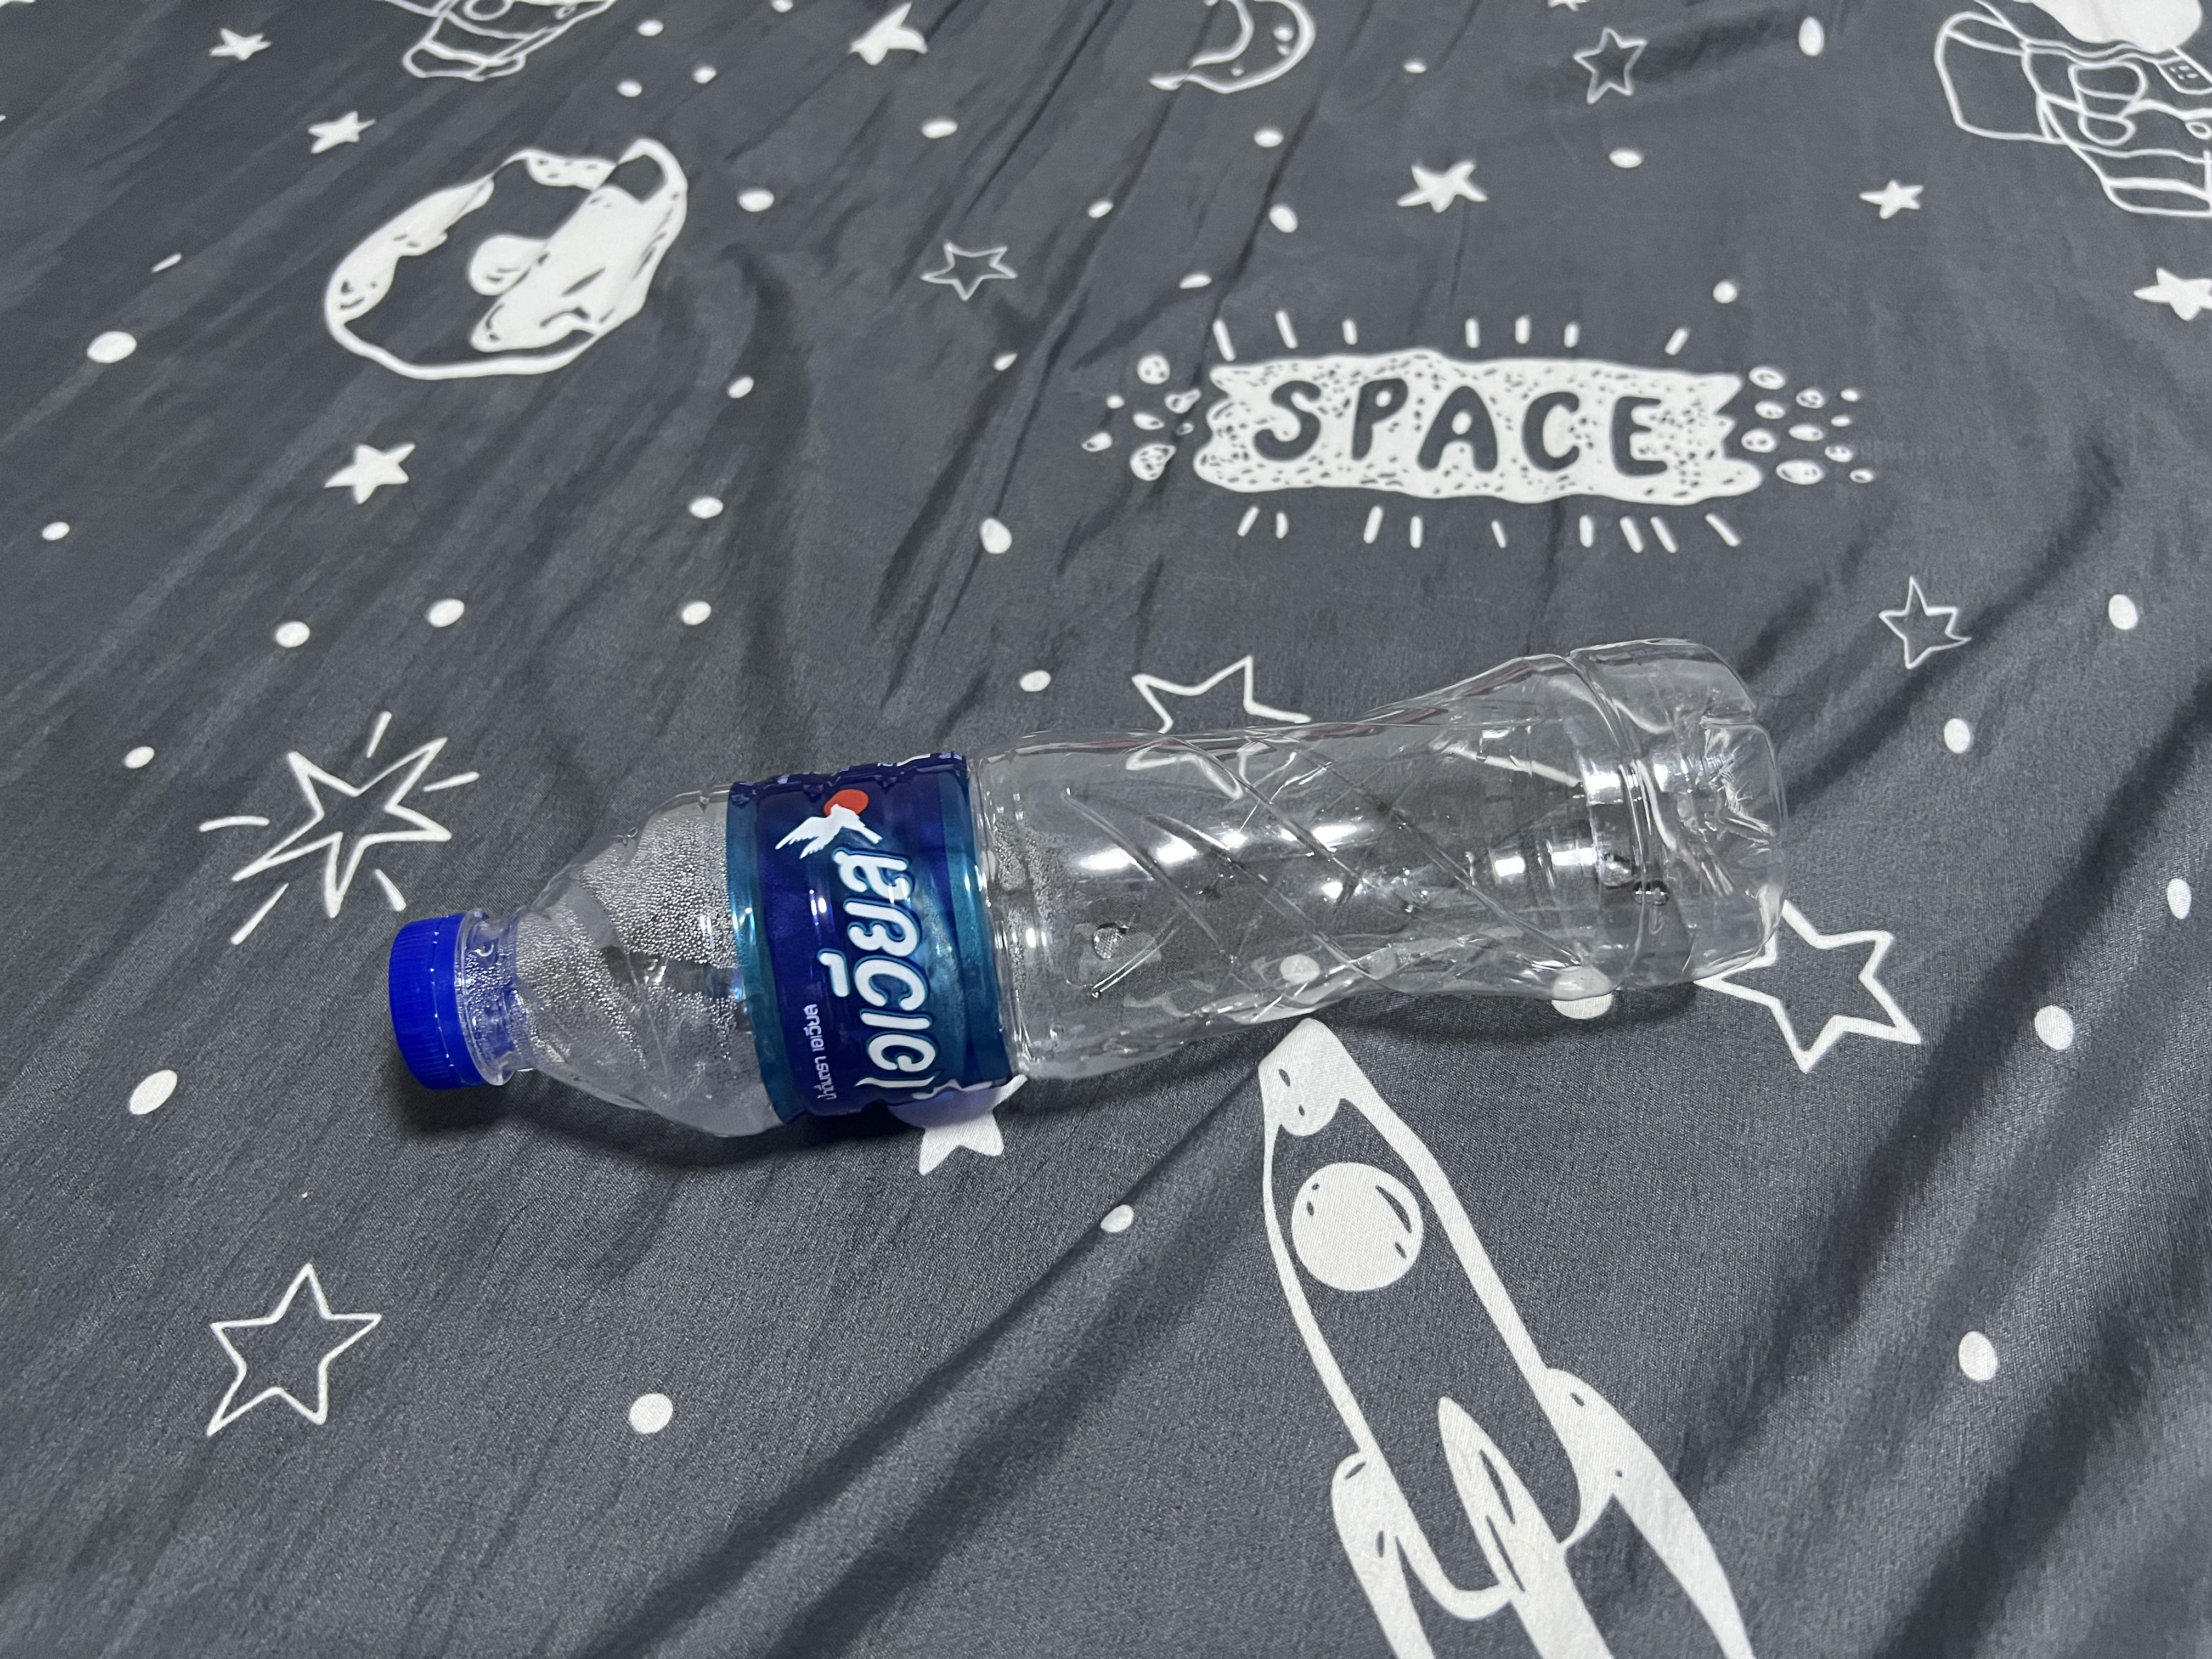plastic_bottle: (331, 594, 1843, 1169)
